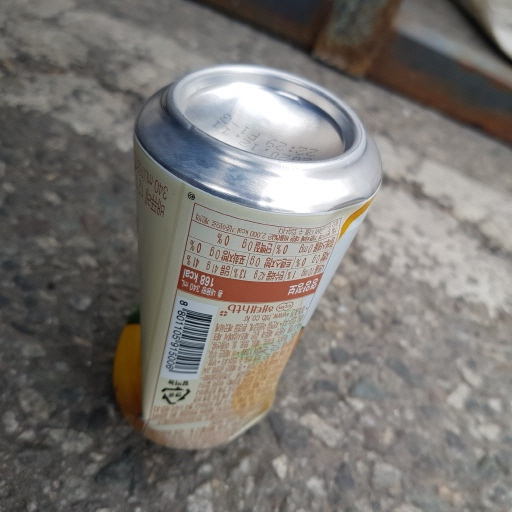Metal_0: (110, 68, 383, 448)
